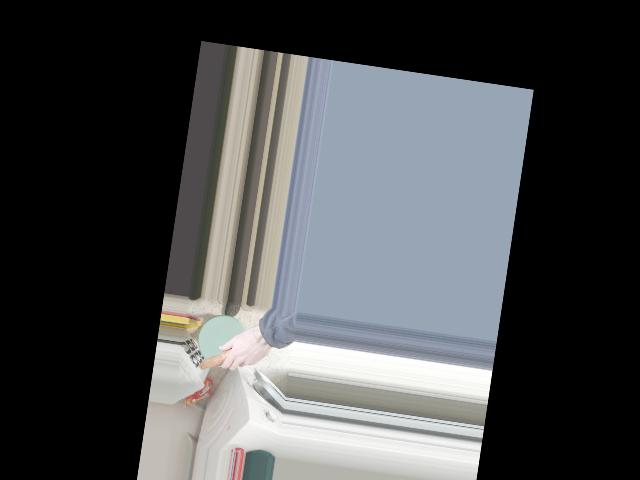sweet_potato: (200, 331, 256, 377)
